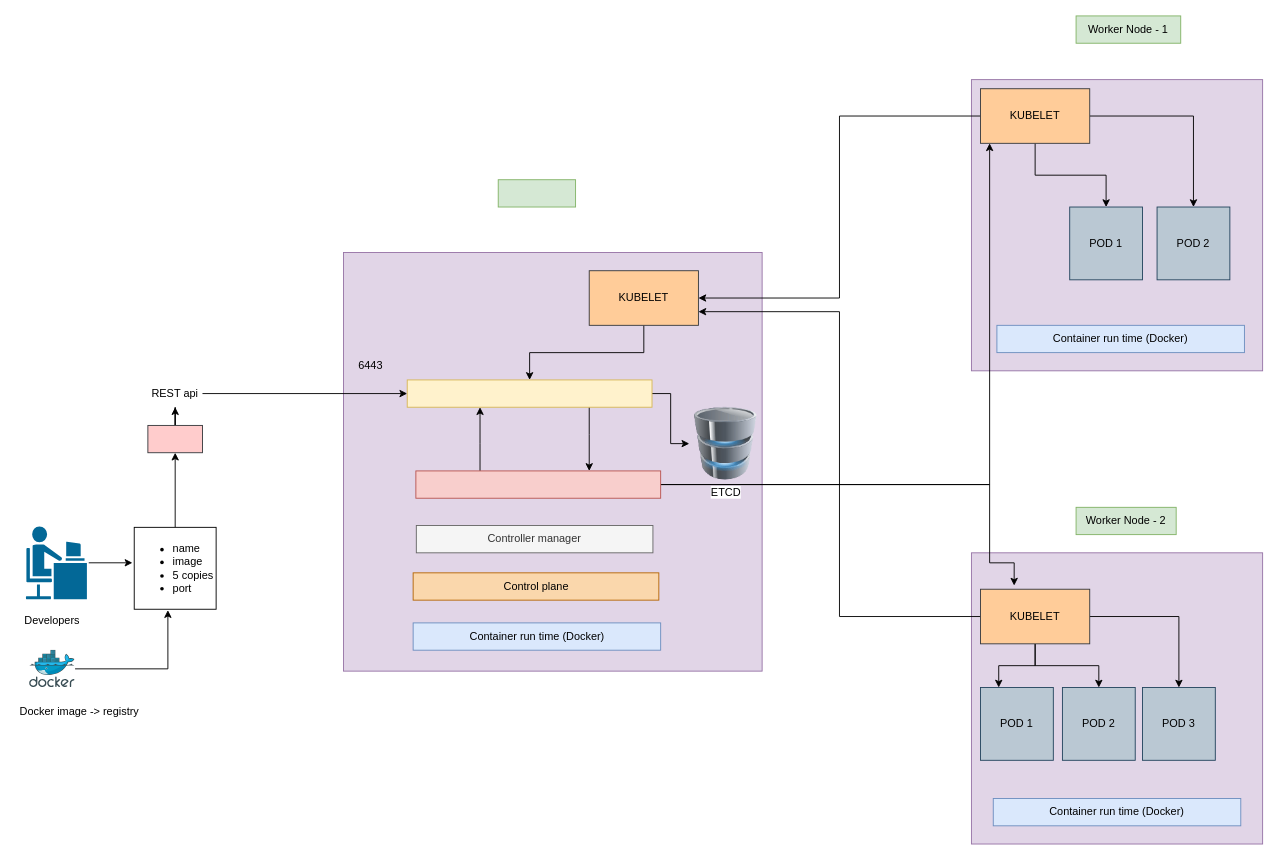
Some shapes in this 1279 by 860 pixel diagram are drawn without their labels. Here are the shapes that lost their labels. From the top down, the box of each, then its label:
(497, 179, 576, 207): Master node
(406, 379, 652, 407): API server
(147, 425, 202, 453): KUBECTL
(415, 470, 661, 498): Scheduler
